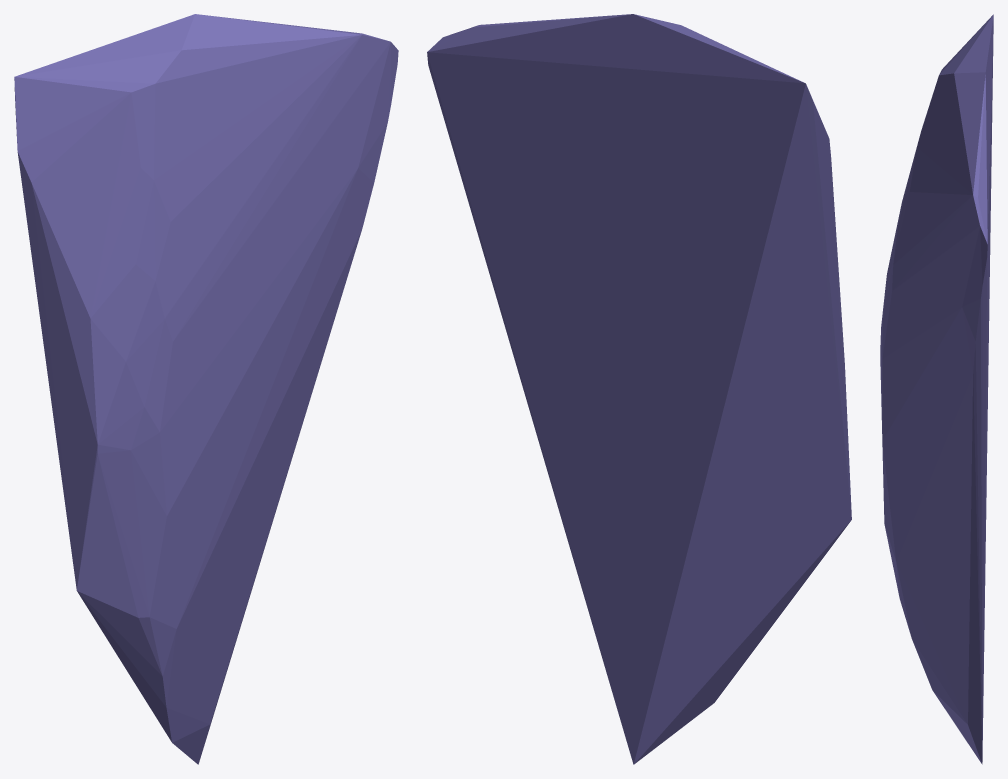
File: bodyPart_fender_rear_b01.glb
3 views of the same model, side by side, from view 1: azimuth 30°, elevation 25°; view 2: azimuth 150°, elevation 25°; view 3: azimuth 270°, elevation 25° (orthographic). The views are drawn at different scales.
Visible parts, largest first — view 1: geometry_0; view 2: geometry_0; view 3: geometry_0.
Part boxes in pixels (<box>): geometry_0: <box>14,14,398,764</box>; geometry_0: <box>427,14,851,764</box>; geometry_0: <box>880,14,993,764</box>.
Bounding box in the file's own units: 0.2519 × 0.4616 × 0.0687.
